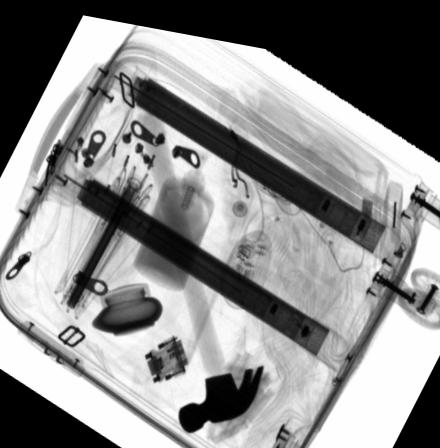Hammer: (135, 98, 263, 425)
